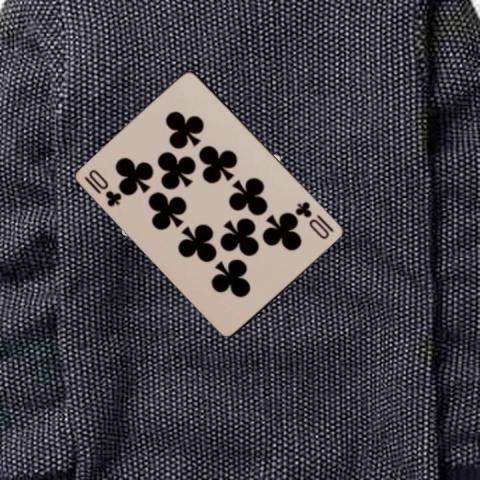10c: (293, 198, 336, 241), (81, 166, 124, 208)
